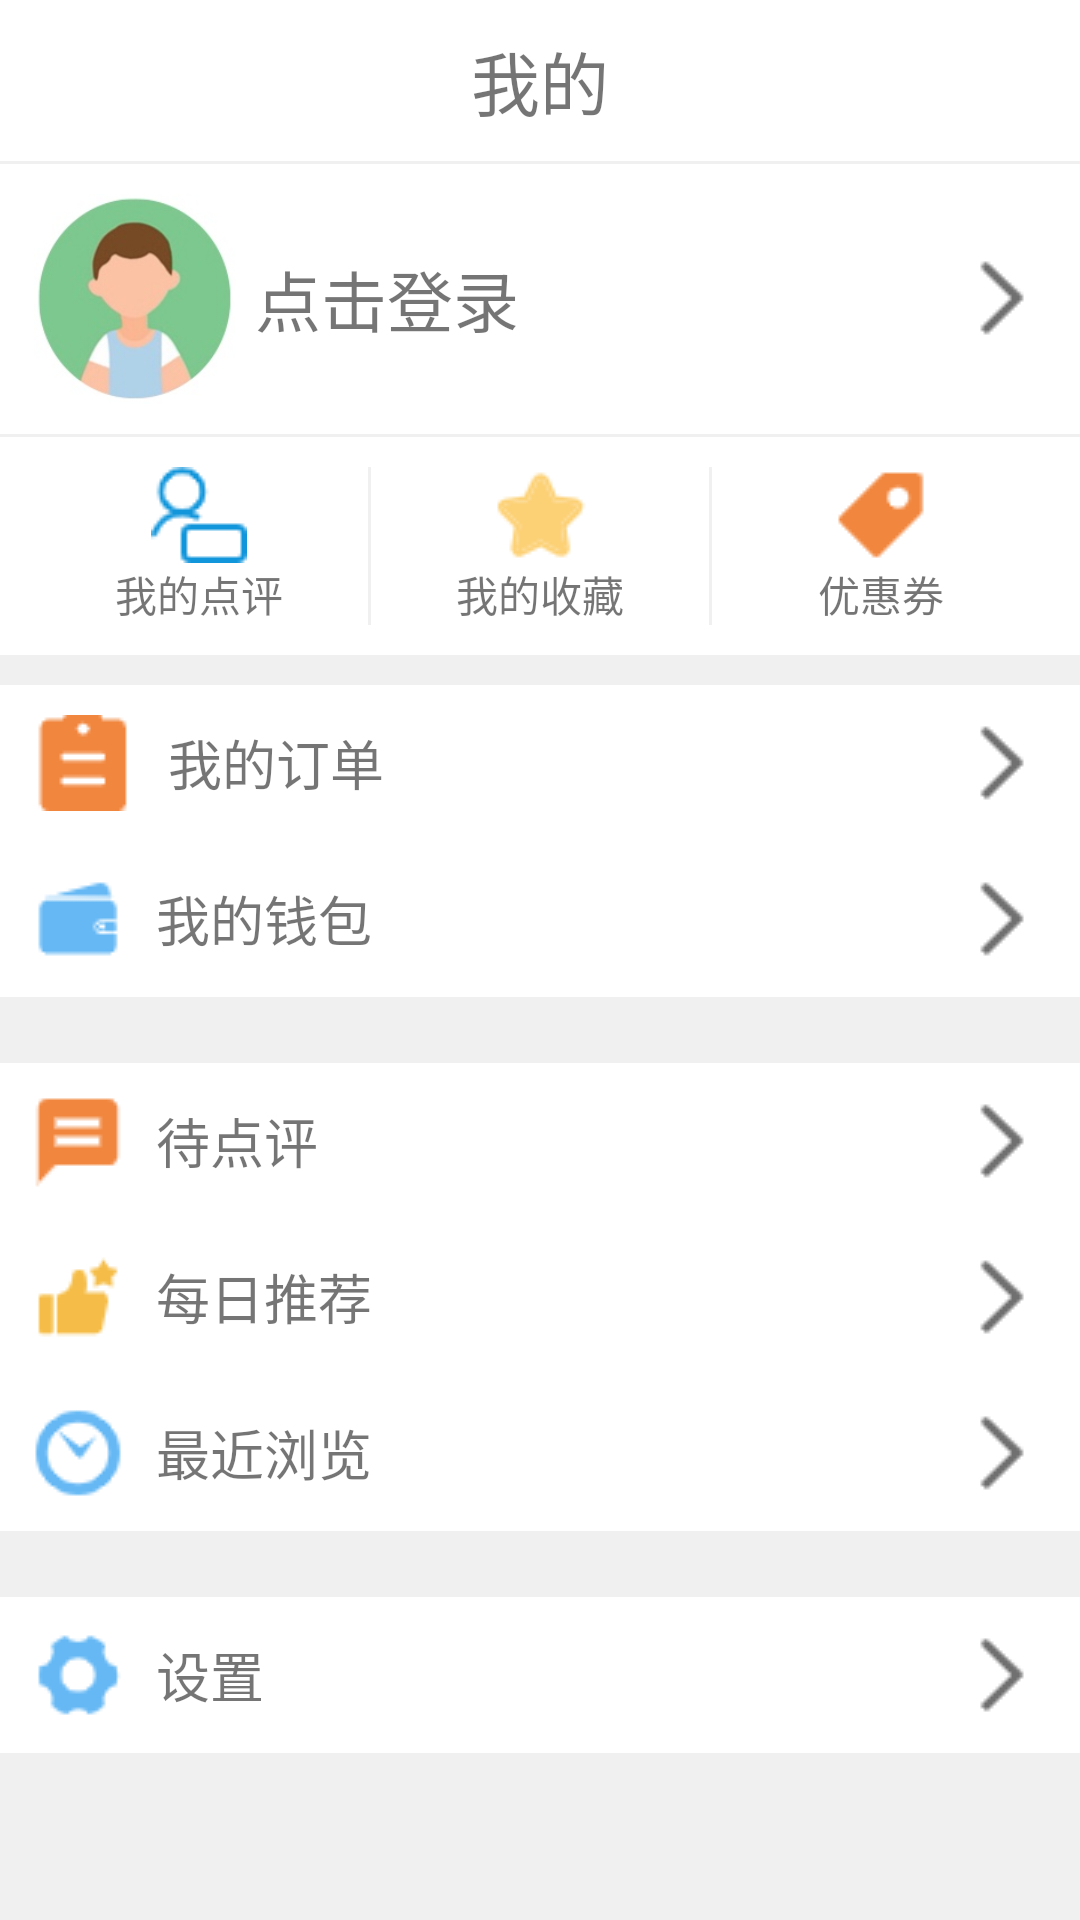

Locate icon controls on the screen. Image size 1080px x 1920px, boxes as (x1, y1, x2, y2).
protrait def: (38, 198, 231, 399)
